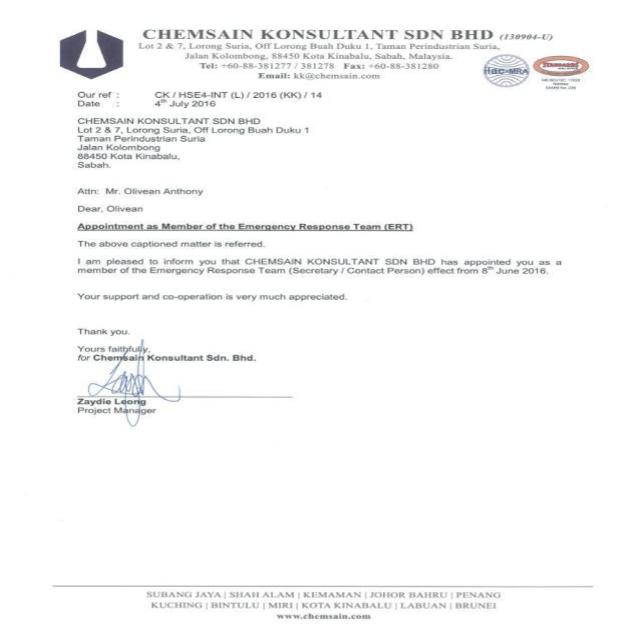signature: (86, 338, 183, 428)
